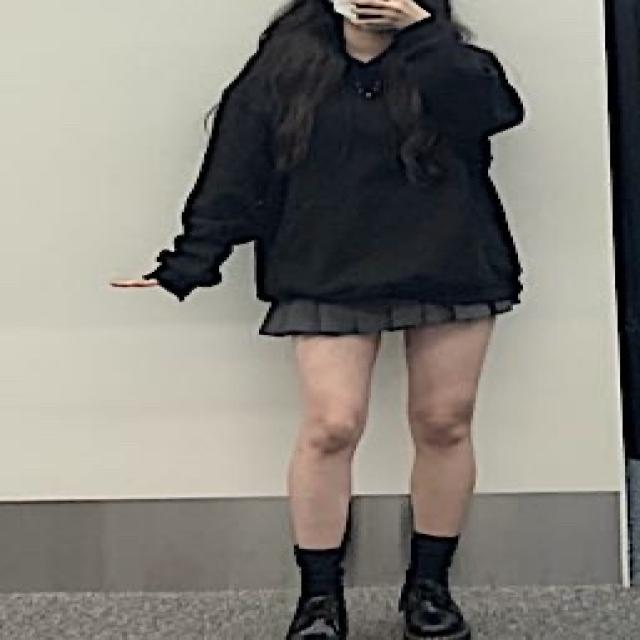hoodies: (148, 13, 527, 305)
skirt: (250, 298, 524, 338)
